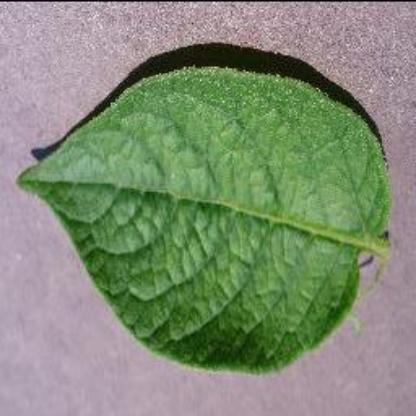Healthy-plant: (14, 48, 402, 378)
